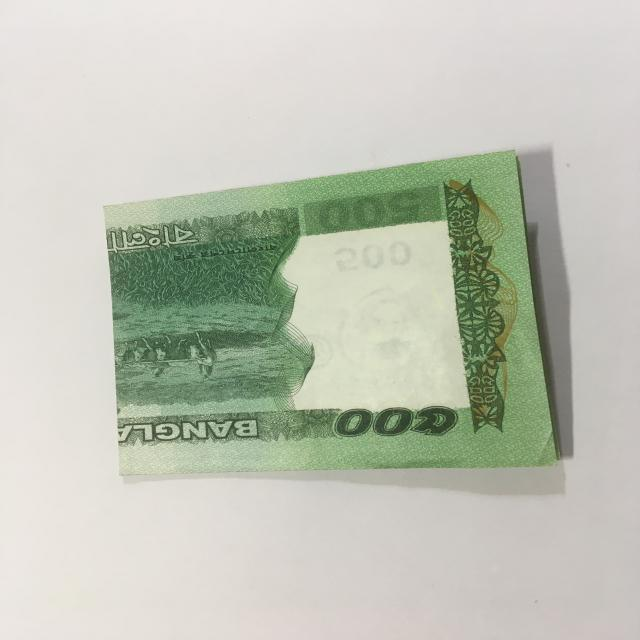Taka: (90, 182, 576, 489)
